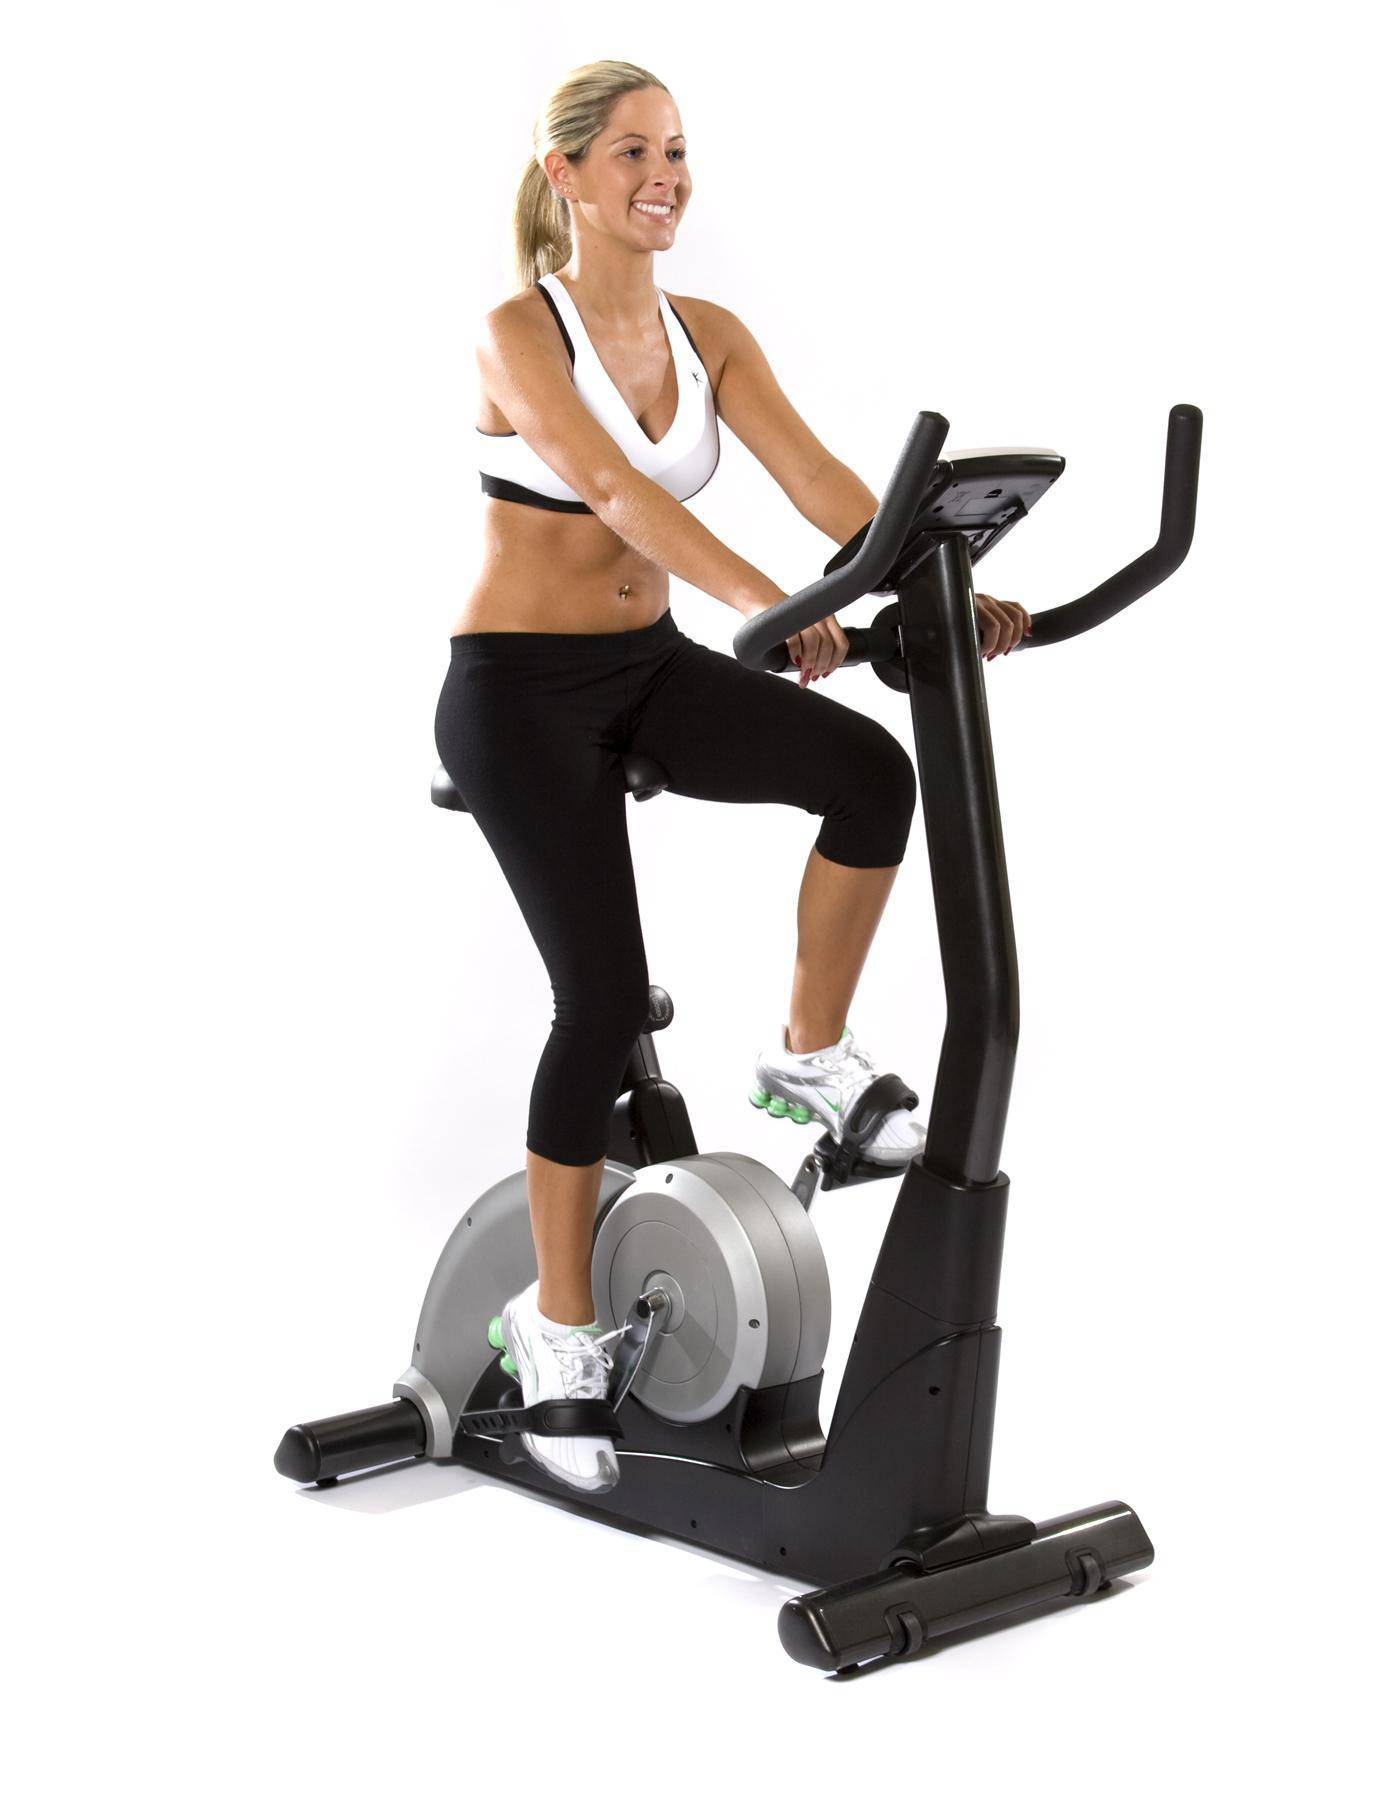gym_bike: (295, 361, 1200, 1677)
